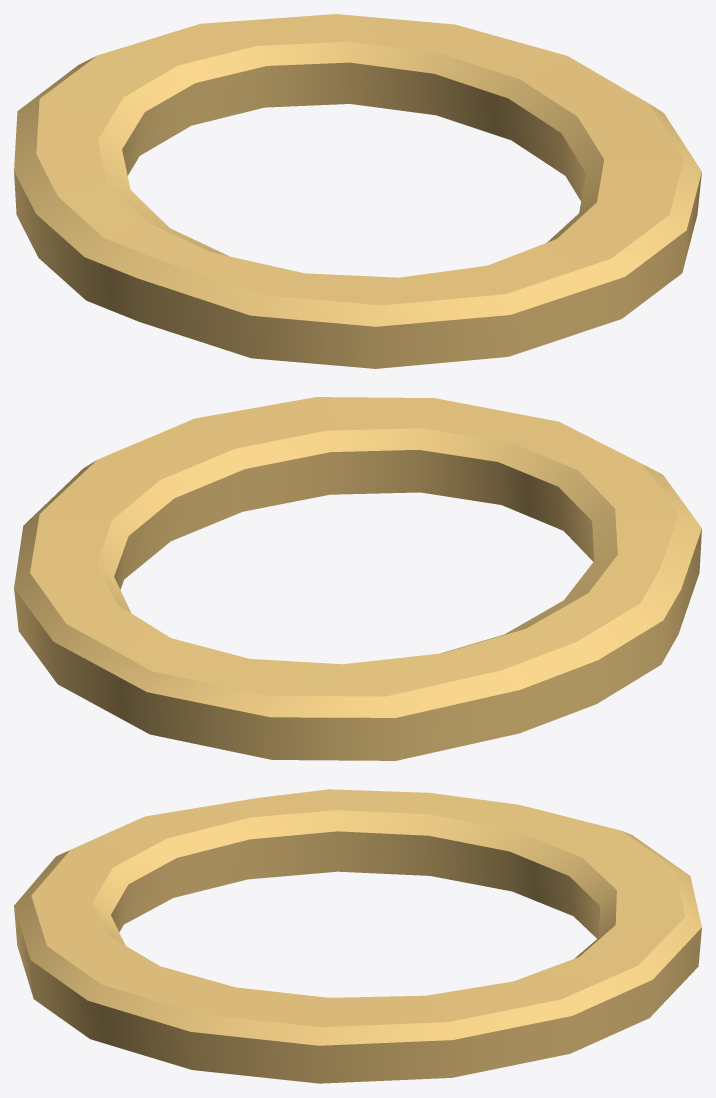
The model's file is Onion_Slice_3.glb.
The picture shows the model from 3 angles, top to bottom: view 1: azimuth 30°, elevation 25°; view 2: azimuth 150°, elevation 25°; view 3: azimuth 270°, elevation 25°; orthographic projection. The views are drawn at different scales.
Parts seen in each view (by area): view 1: Onion_Slice_3; view 2: Onion_Slice_3; view 3: Onion_Slice_3.
Part boxes in pixels (<box>): Onion_Slice_3: <box>14,14,701,368</box>; Onion_Slice_3: <box>14,397,701,760</box>; Onion_Slice_3: <box>14,789,701,1083</box>.
Size of the model in its own units: 0.0572 by 0.00603 by 0.0639.
1 material, 1 textured.
